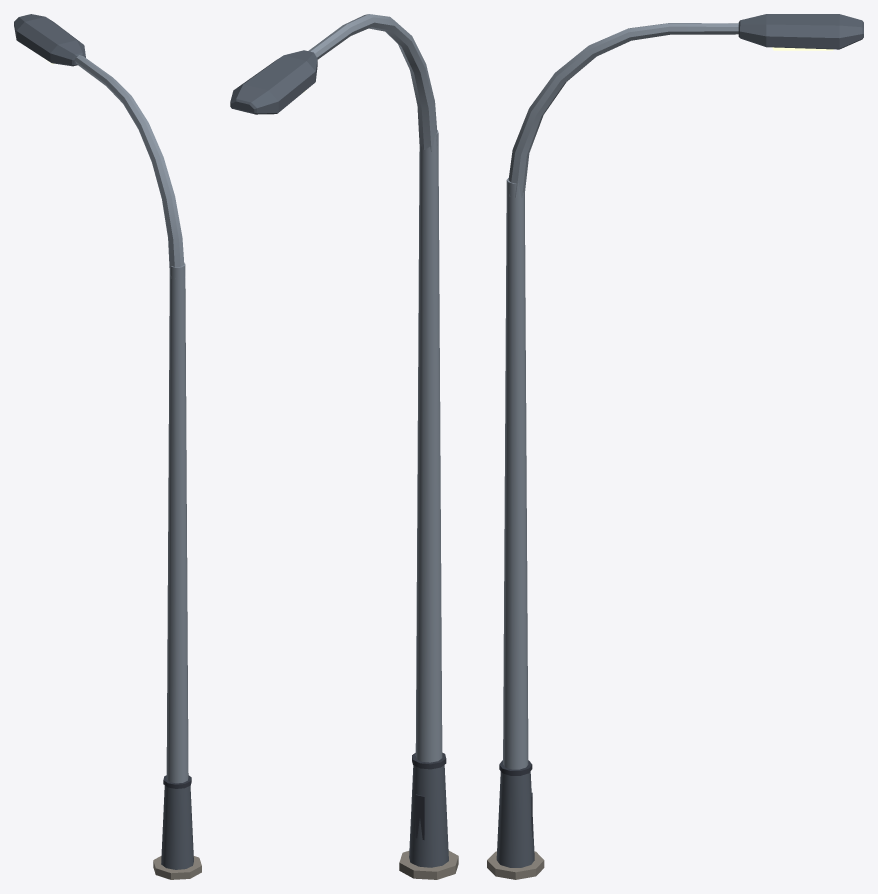
File: street_lamp_a.glb
The picture shows the model from 3 angles, left to right: view 1: azimuth 30°, elevation 25°; view 2: azimuth 150°, elevation 25°; view 3: azimuth 270°, elevation 25°; orthographic projection. The views are drawn at different scales.
Parts seen in each view (by area): view 1: street_lamp_a; view 2: street_lamp_a; view 3: street_lamp_a.
Boxes of the visible parts, x1,y1,x2,y2 form: street_lamp_a: (14, 14, 201, 879); street_lamp_a: (230, 14, 458, 879); street_lamp_a: (487, 14, 863, 879).
Size of the model in its own units: 0.54 by 8.82 by 3.55.
